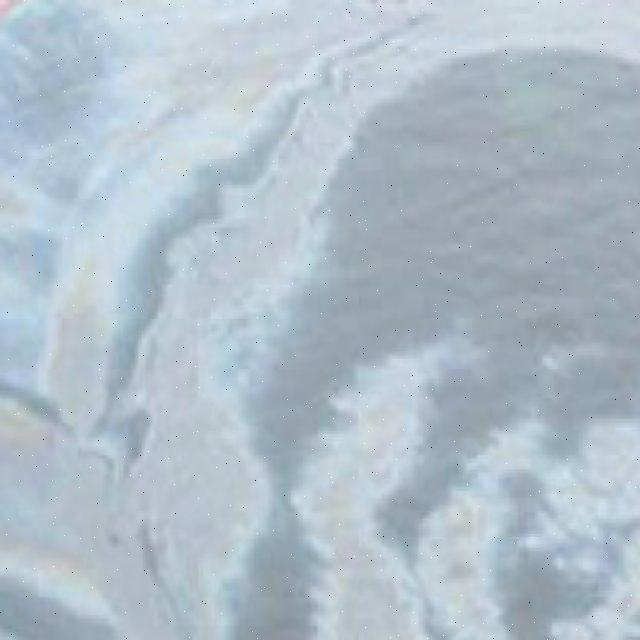oil: (2, 85, 320, 640), (336, 329, 640, 635), (1, 2, 640, 70)
